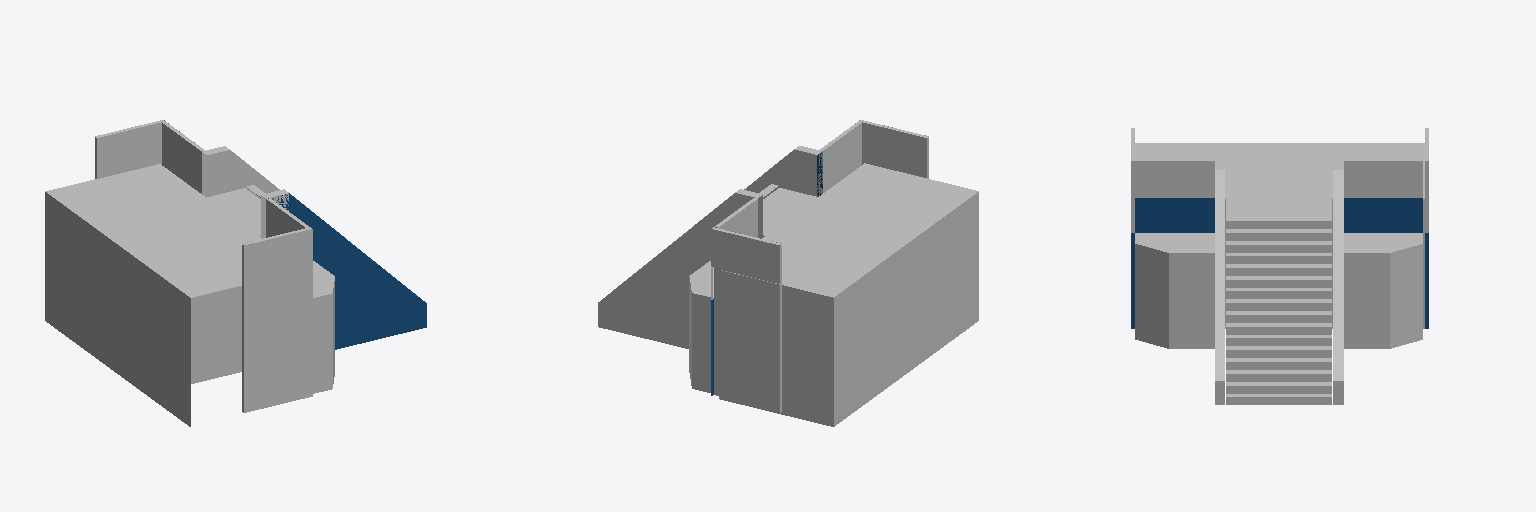
File: stairs.obj
3 renders of one model, left to right at view 1: azimuth 30°, elevation 25°; view 2: azimuth 150°, elevation 25°; view 3: azimuth 270°, elevation 25°, orthographic.
Parts seen in each view (by area): view 1: Stairs; view 2: Stairs; view 3: Stairs.
Boxes of the visible parts, x1=… form: Stairs: x1=45, y1=120, x2=426, y2=426; Stairs: x1=598, y1=120, x2=978, y2=426; Stairs: x1=1131, y1=128, x2=1428, y2=404.
Size of the model in its own units: 12.06 by 7.21 by 11.27.